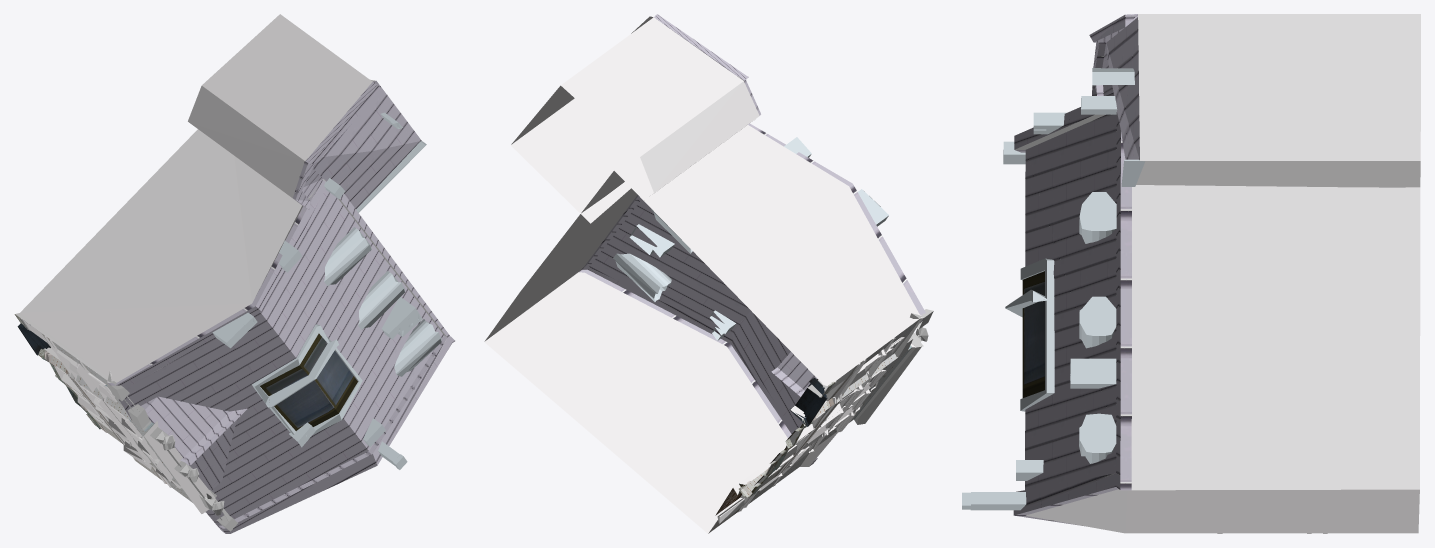
Rendered from Suur-Karja5-origo.obj.
3 views of the same model, side by side, from view 1: azimuth 30°, elevation 25°; view 2: azimuth 150°, elevation 25°; view 3: azimuth 270°, elevation 25° (orthographic). The views are drawn at different scales.
Parts seen in each view (by area): view 1: Suur_Karja_5; view 2: Suur_Karja_5; view 3: Suur_Karja_5.
Part boxes in pixels (x1,y1,x2,y2): Suur_Karja_5: [14, 14, 454, 533]; Suur_Karja_5: [484, 14, 933, 533]; Suur_Karja_5: [962, 14, 1420, 533].
Bounding box in the file's own units: 27.62 × 31.5 × 20.86.
